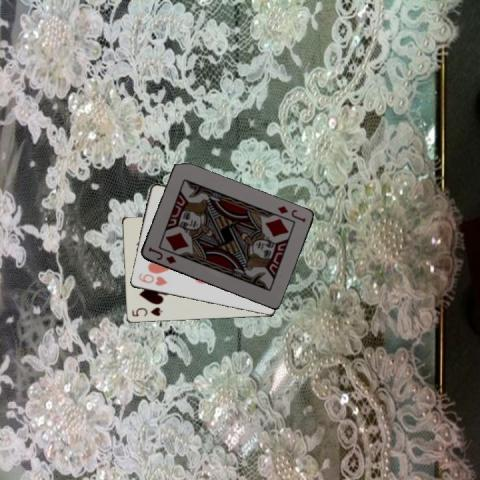5s: (129, 304, 164, 318)
6h: (135, 271, 168, 287)
Jd: (274, 203, 307, 224), (146, 244, 178, 265)
